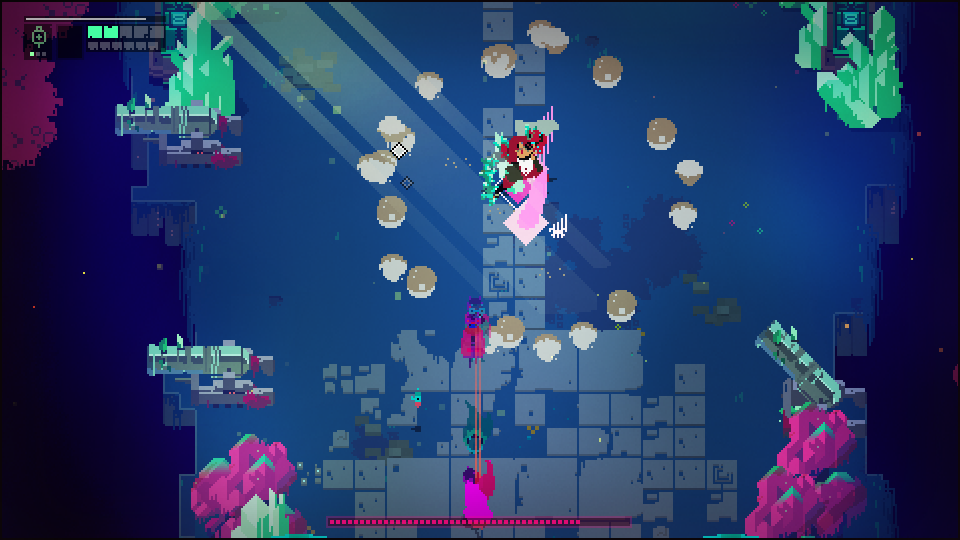hanged_crys: (521, 164, 548, 234)
hanged_man: (483, 120, 561, 193)
player: (456, 480, 494, 530)
